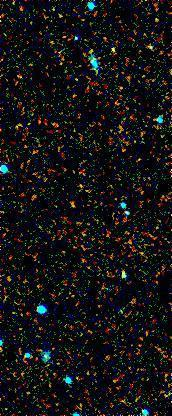star: (95, 34, 125, 64)
